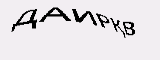Қ: (110, 15, 126, 43)
